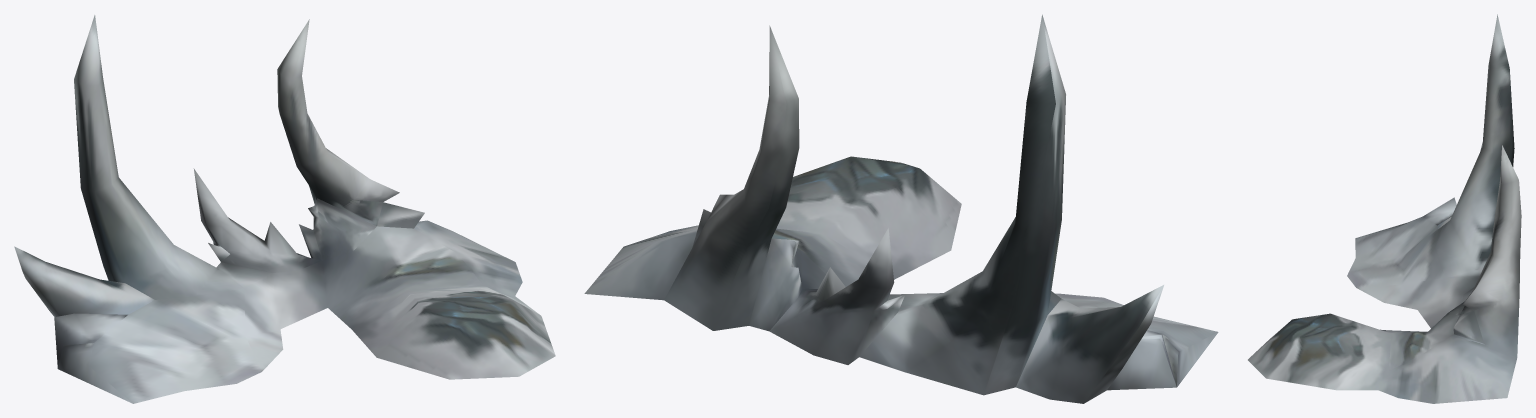
Rendered from LGhuangyuan_longgu012.FBX.
The picture shows the model from 3 angles, left to right: view 1: azimuth 30°, elevation 25°; view 2: azimuth 150°, elevation 25°; view 3: azimuth 270°, elevation 25°; orthographic projection. The views are drawn at different scales.
Visible parts, largest first — view 1: LGhuangyuan_longgu012; view 2: LGhuangyuan_longgu012; view 3: LGhuangyuan_longgu012.
Part boxes in pixels (<box>): LGhuangyuan_longgu012: <box>14,15,555,403</box>; LGhuangyuan_longgu012: <box>584,14,1218,403</box>; LGhuangyuan_longgu012: <box>1248,14,1521,403</box>.
Size of the model in its own units: 323 by 208 by 205.
